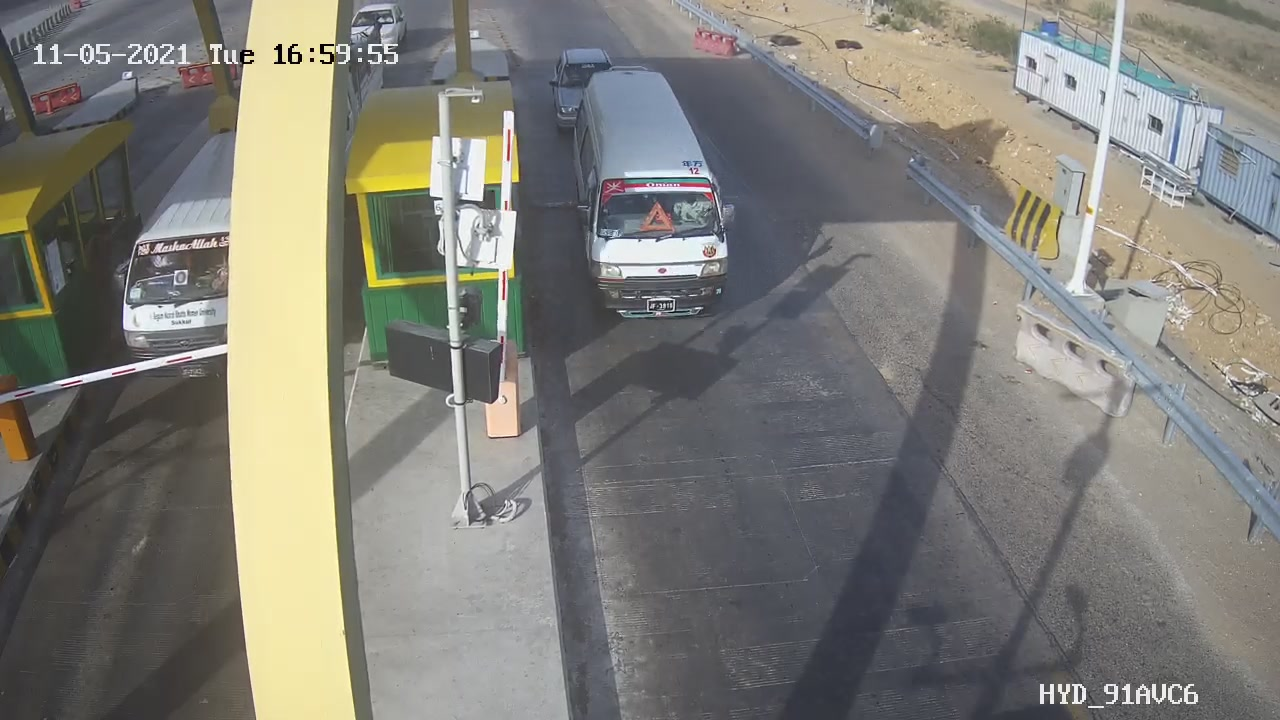F2: (555, 53, 753, 336)
